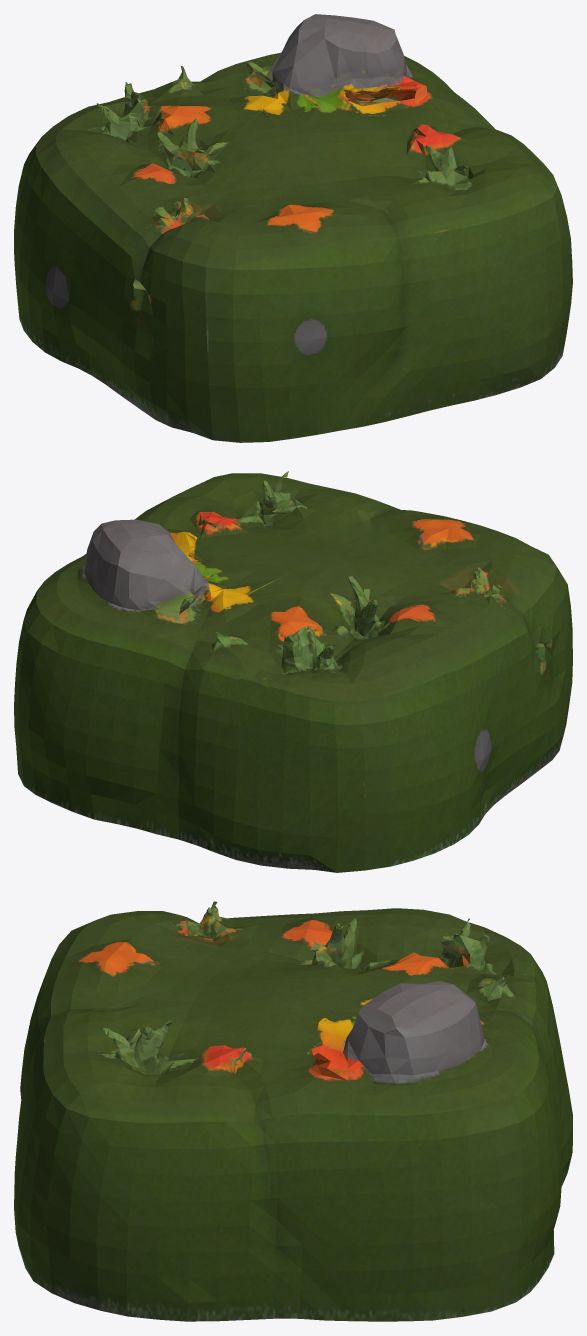
File: Stage_05_Ground_DeepForest_003.fbx
The picture shows the model from 3 angles, top to bottom: view 1: azimuth 30°, elevation 25°; view 2: azimuth 150°, elevation 25°; view 3: azimuth 270°, elevation 25°; orthographic projection. The views are drawn at different scales.
Parts seen in each view (by area): view 1: Stage_05_Ground_DeepForest_003; view 2: Stage_05_Ground_DeepForest_003; view 3: Stage_05_Ground_DeepForest_003.
Boxes of the visible parts, left/top/right/bottom form: Stage_05_Ground_DeepForest_003: left=14, top=14, right=572, bottom=442; Stage_05_Ground_DeepForest_003: left=14, top=471, right=572, bottom=872; Stage_05_Ground_DeepForest_003: left=14, top=901, right=572, bottom=1321.
Size of the model in its own units: 98.63 by 53.1 by 99.13.
